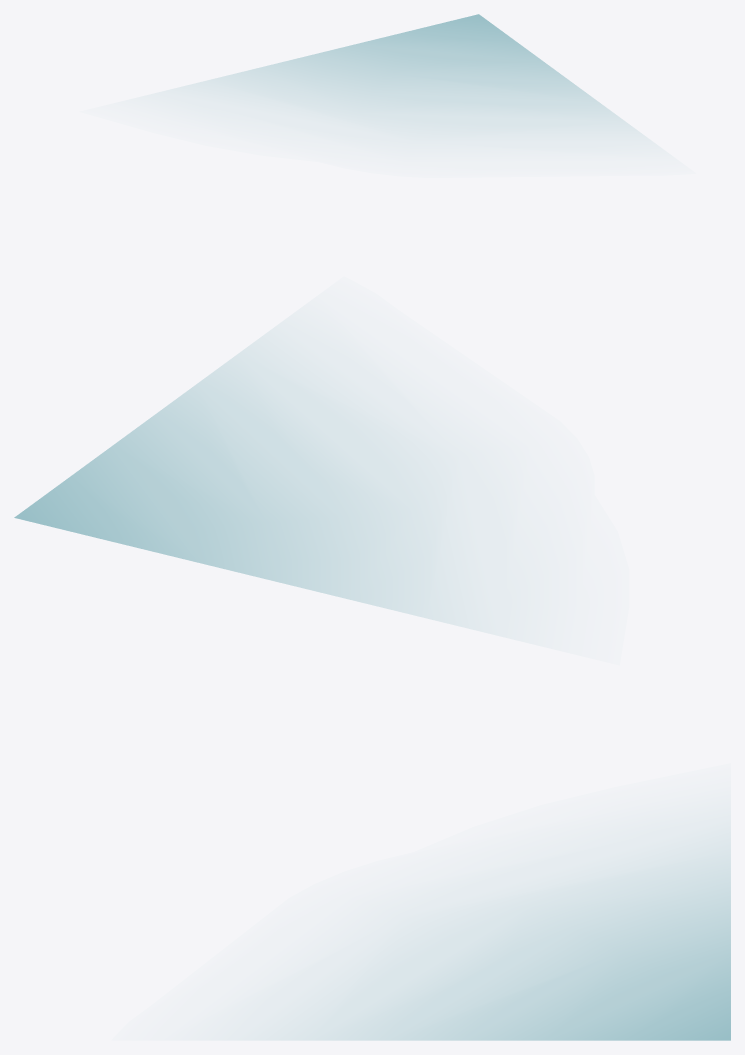
3 views of the same model, one above another, from view 1: azimuth 30°, elevation 25°; view 2: azimuth 150°, elevation 25°; view 3: azimuth 270°, elevation 25° (orthographic). The views are drawn at different scales.
Parts seen in each view (by area): view 1: city; view 2: city; view 3: city.
Boxes of the visible parts, x1,y1,x2,y2 form: city: [176, 14, 643, 136]; city: [14, 334, 475, 629]; city: [260, 829, 730, 1040].
Bounding box in the file's own units: 323 × 0 × 303.
